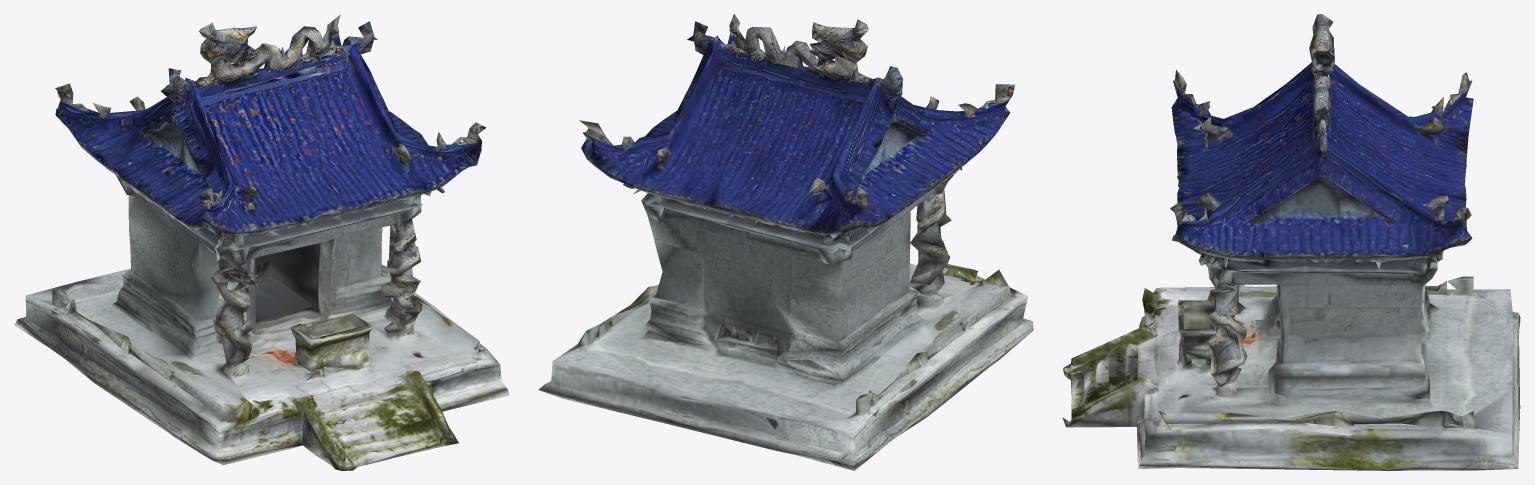
The model's file is dragon_shrine.lod1.glb.
3 views of the same model, side by side, from view 1: azimuth 30°, elevation 25°; view 2: azimuth 150°, elevation 25°; view 3: azimuth 270°, elevation 25° (orthographic).
Parts seen in each view (by area): view 1: clean; view 2: clean; view 3: clean.
Part boxes in pixels (box(x1,y1,x2,y2)): clean: box(14, 14, 509, 470); clean: box(538, 14, 1033, 470); clean: box(1062, 14, 1520, 470).
Size of the model in its own units: 138 by 149 by 173.
Materials: 1 (1 with a texture image).
